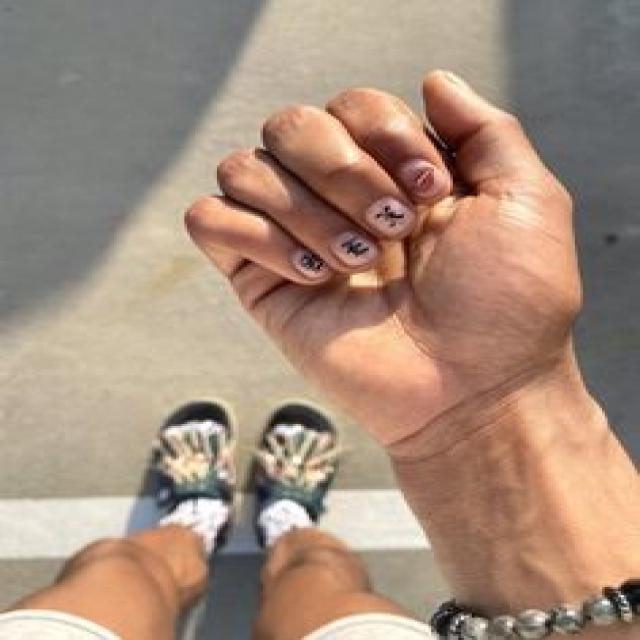Fingernail: (367, 196, 415, 237), (401, 158, 446, 199), (330, 232, 378, 268), (292, 249, 330, 280)
